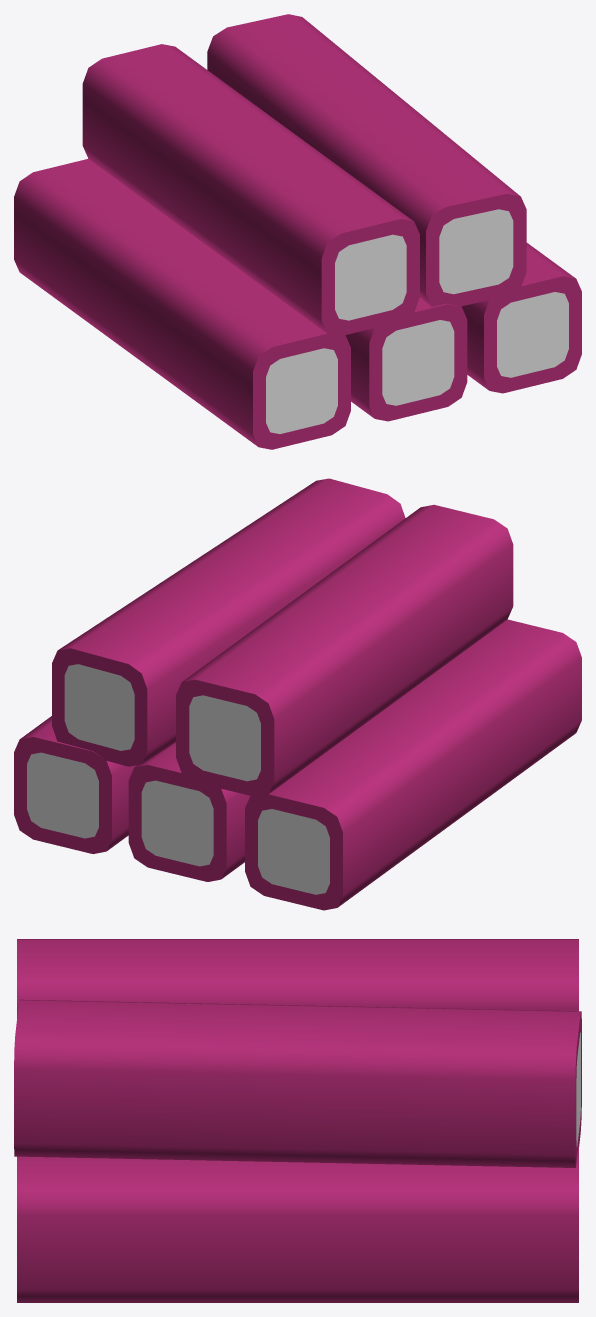
File: Crabsticks.glb
The picture shows the model from 3 angles, top to bottom: view 1: azimuth 30°, elevation 25°; view 2: azimuth 150°, elevation 25°; view 3: azimuth 270°, elevation 25°; orthographic projection. The views are drawn at different scales.
Visible parts, largest first — view 1: FoodIngredient_Crabsticks; view 2: FoodIngredient_Crabsticks; view 3: FoodIngredient_Crabsticks.
Part boxes in pixels (<box>): FoodIngredient_Crabsticks: <box>14,14,581,449</box>; FoodIngredient_Crabsticks: <box>14,478,581,910</box>; FoodIngredient_Crabsticks: <box>14,939,581,1302</box>.
Size of the model in its own units: 0.4231 by 0.2451 by 0.5378.
Materials: 1 (1 with a texture image).
